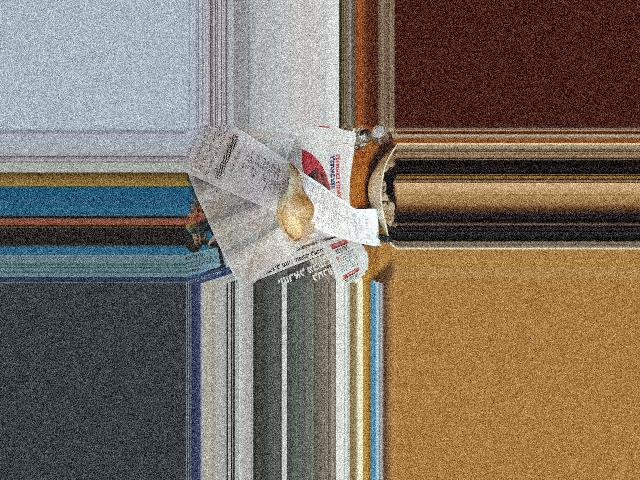onion: (276, 173, 313, 240)
